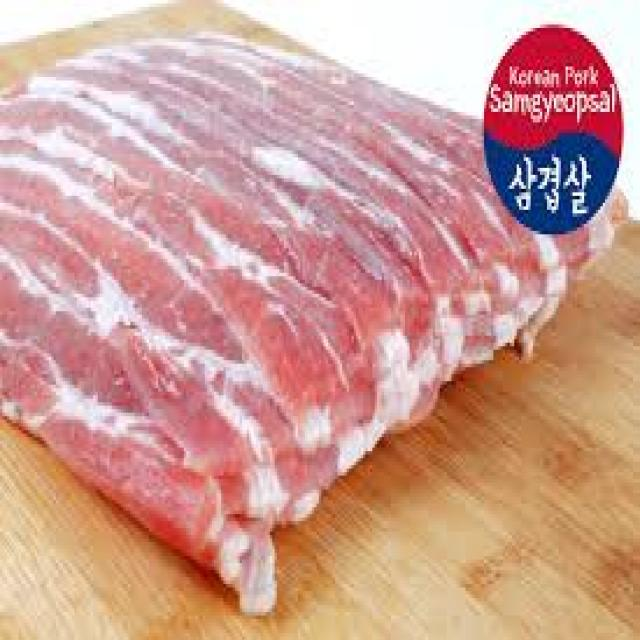pork: (0, 38, 614, 616)
